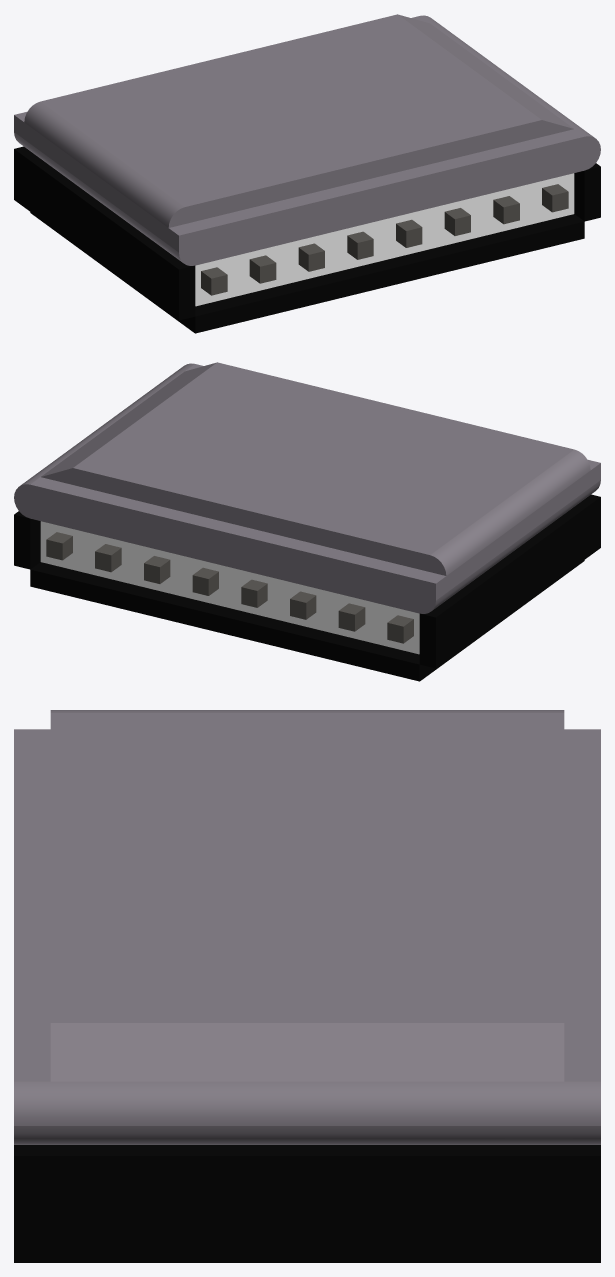
File: Tank_bottom.fbx
3 renders of one model, top to bottom at view 1: azimuth 30°, elevation 25°; view 2: azimuth 150°, elevation 25°; view 3: azimuth 270°, elevation 25°, orthographic. The views are drawn at different scales.
Visible parts, largest first — view 1: generated; view 2: generated; view 3: generated.
Boxes of the visible parts, left/top/right/bottom form: generated: left=14, top=14, right=600, bottom=333; generated: left=14, top=362, right=600, bottom=681; generated: left=14, top=710, right=600, bottom=1262.
Bounding box in the file's own units: 260 × 70 × 176.
